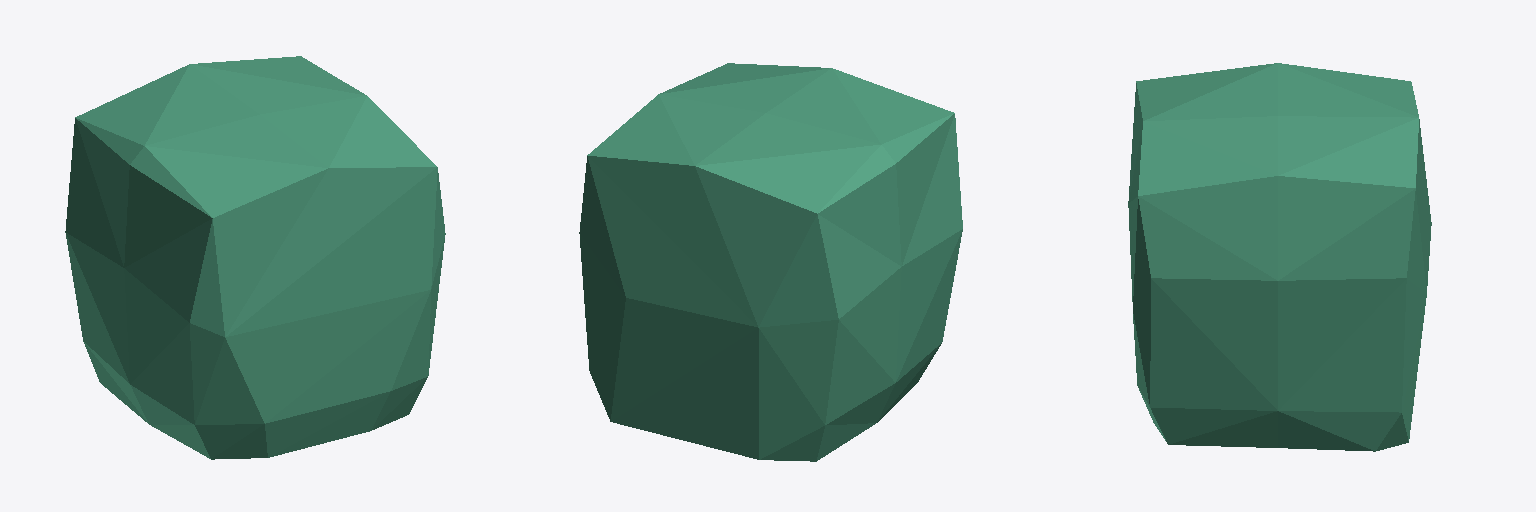
Rendered from strengthBoulder.obj.
3 views of the same model, side by side, from view 1: azimuth 30°, elevation 25°; view 2: azimuth 150°, elevation 25°; view 3: azimuth 270°, elevation 25° (orthographic).
Parts seen in each view (by area): view 1: Strength_Rock; view 2: Strength_Rock; view 3: Strength_Rock.
Part boxes in pixels (x1,y1,x2,y2): Strength_Rock: (65,56,445,459); Strength_Rock: (579,63,962,461); Strength_Rock: (1128,63,1431,451).
Bounding box in the file's own units: 0.9984 × 1.02 × 0.9877.